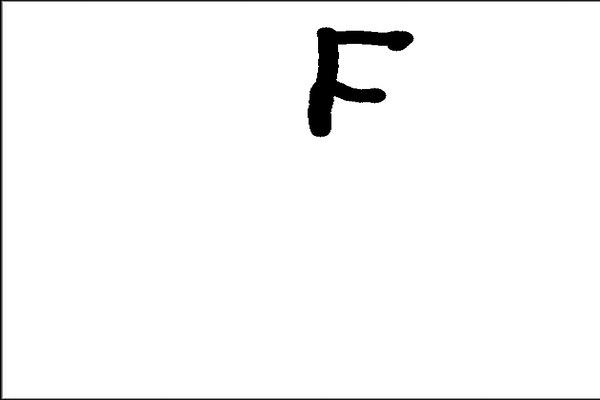F: (301, 20, 416, 143)
